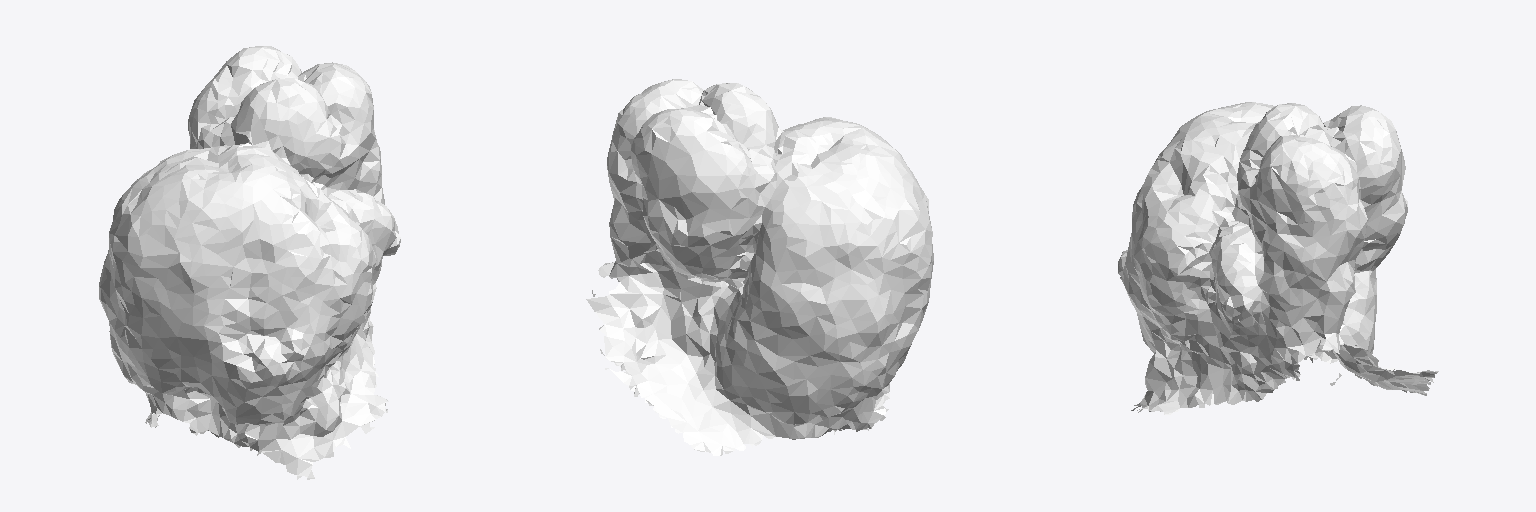
File: SfM03_03.obj
The picture shows the model from 3 angles: view 1: azimuth 30°, elevation 25°; view 2: azimuth 150°, elevation 25°; view 3: azimuth 270°, elevation 25°; orthographic projection.
Parts seen in each view (by area): view 1: SfM03_03; view 2: SfM03_03; view 3: SfM03_03.
Part boxes in pixels (left/top/right/bottom): SfM03_03: left=99, top=46, right=400, bottom=479; SfM03_03: left=586, top=79, right=933, bottom=455; SfM03_03: left=1118, top=102, right=1438, bottom=414.
Size of the model in its own units: 3.41 by 3.65 by 3.24.